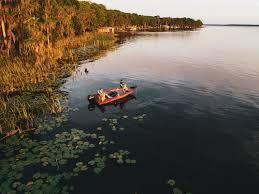fishing boat: (83, 77, 138, 106)
